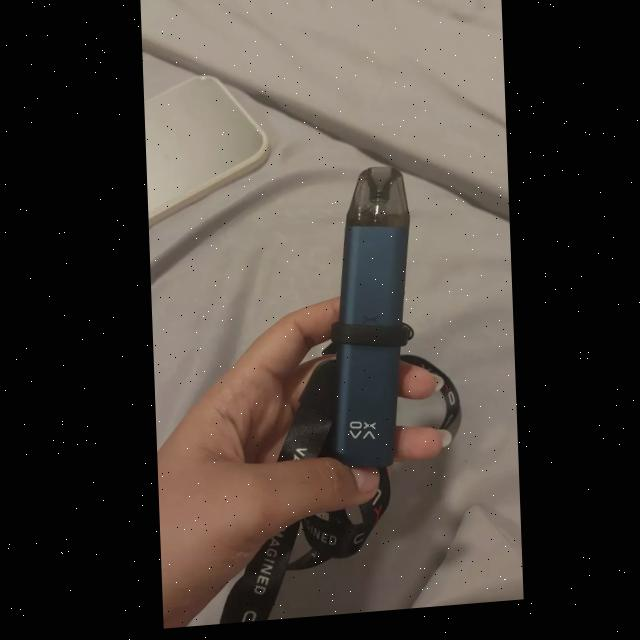vape: (316, 170, 416, 481)
